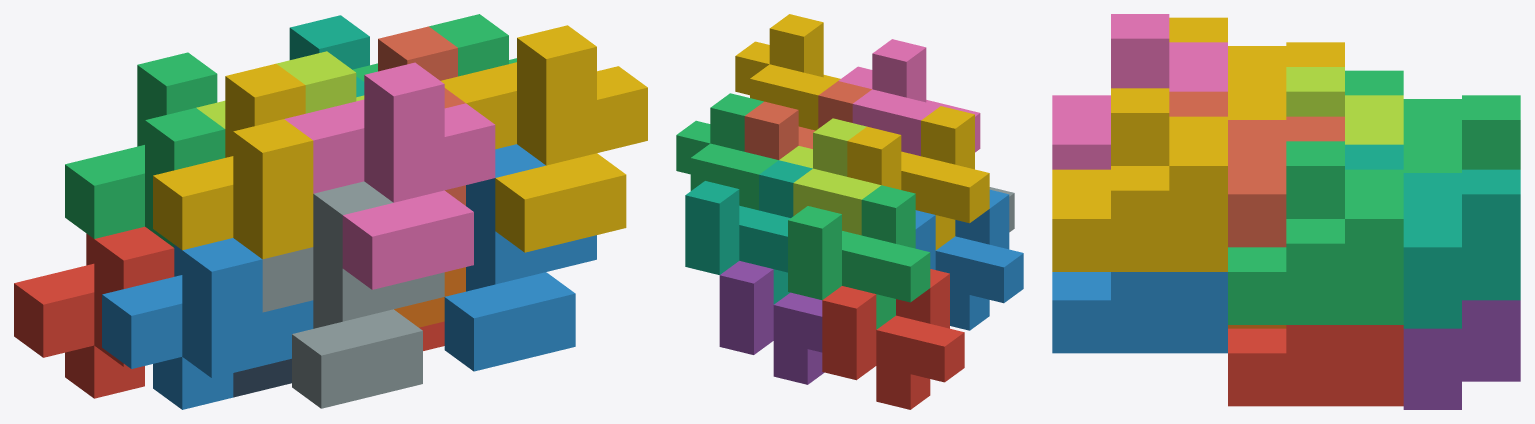
The model's file is tiling.obj.
3 renders of one model, left to right at view 1: azimuth 30°, elevation 25°; view 2: azimuth 150°, elevation 25°; view 3: azimuth 270°, elevation 25°, orthographic. The views are drawn at different scales.
Parts seen in each view (by area): view 1: copy_2_domain_4, copy_2_domain_8, copy_1_domain_2, copy_2_domain_2, copy_1_domain_4, copy_2_domain_6, copy_1_domain_3, copy_1_domain_1, copy_2_domain_3, copy_1_domain_8, copy_2_domain_7, copy_1_domain_7 (+3 smaller); view 2: copy_1_domain_1, copy_1_domain_3, copy_1_domain_4, copy_1_domain_7, copy_1_domain_5, copy_1_domain_2, copy_2_domain_8, copy_2_domain_4, copy_2_domain_7, copy_2_domain_3, copy_1_domain_8; view 3: copy_2_domain_8, copy_2_domain_7, copy_1_domain_7, copy_2_domain_6, copy_2_domain_5, copy_2_domain_4, copy_1_domain_8, copy_1_domain_3, copy_1_domain_5, copy_1_domain_4, copy_2_domain_3.
Boxes of the visible parts, <box> form: copy_2_domain_4: <box>284,62,495,289</box>; copy_2_domain_8: <box>441,25,647,252</box>; copy_1_domain_2: <box>102,238,313,409</box>; copy_2_domain_2: <box>262,181,444,408</box>; copy_1_domain_4: <box>153,63,313,259</box>; copy_2_domain_6: <box>444,144,596,371</box>; copy_1_domain_3: <box>65,52,225,247</box>; copy_1_domain_1: <box>14,226,174,398</box>; copy_2_domain_3: <box>196,51,364,128</box>; copy_1_domain_8: <box>378,26,465,205</box>; copy_2_domain_7: <box>352,14,516,81</box>; copy_1_domain_7: <box>289,15,369,97</box>; copy_1_domain_1: <box>822,269,964,409</box>; copy_1_domain_3: <box>788,185,930,329</box>; copy_1_domain_4: <box>847,106,989,250</box>; copy_1_domain_7: <box>685,160,812,304</box>; copy_1_domain_5: <box>719,261,824,384</box>; copy_1_domain_2: <box>915,189,1023,330</box>; copy_2_domain_8: <box>735,14,840,130</box>; copy_2_domain_4: <box>838,39,980,156</box>; copy_2_domain_7: <box>676,93,778,210</box>; copy_2_domain_3: <box>779,118,881,235</box>; copy_1_domain_8: <box>744,81,871,159</box>; copy_2_domain_8: <box>1052,88,1227,271</box>; copy_2_domain_7: <box>1228,141,1403,324</box>; copy_1_domain_7: <box>1345,144,1520,328</box>; copy_2_domain_6: <box>1052,272,1227,353</box>; copy_2_domain_5: <box>1228,325,1403,406</box>; copy_2_domain_4: <box>1052,14,1227,169</box>; copy_1_domain_8: <box>1169,91,1344,247</box>; copy_1_domain_3: <box>1345,70,1520,172</box>; copy_1_domain_5: <box>1403,300,1520,409</box>; copy_1_domain_4: <box>1169,17,1344,119</box>; copy_2_domain_3: <box>1286,67,1403,144</box>.
Bounding box in the file's own units: 9 × 7 × 8.
